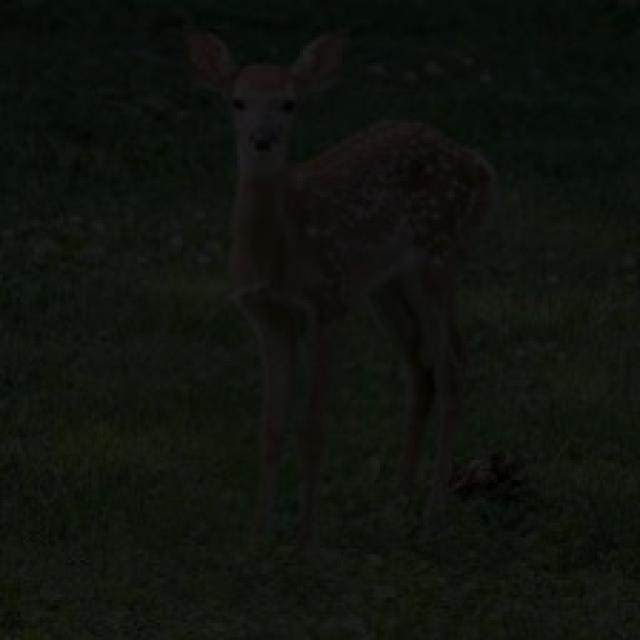animal: (139, 42, 555, 532)
